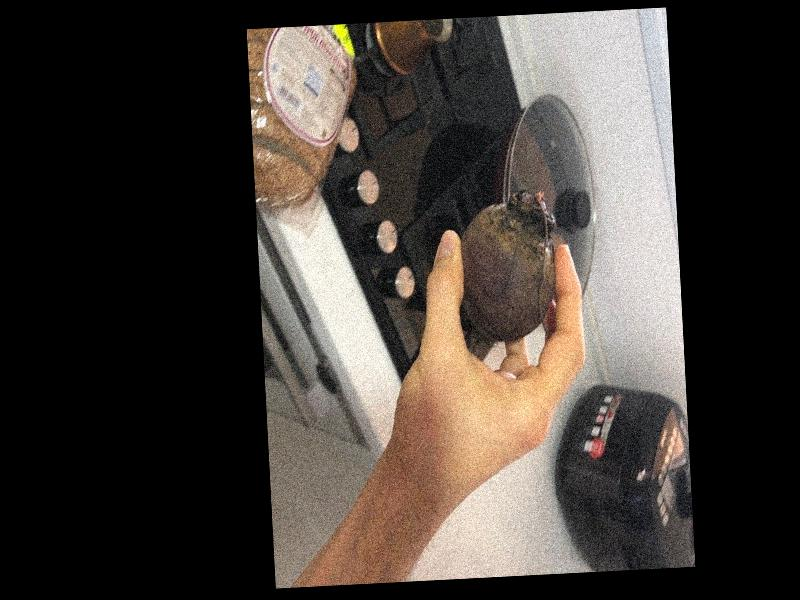Beet: (457, 188, 560, 353)
